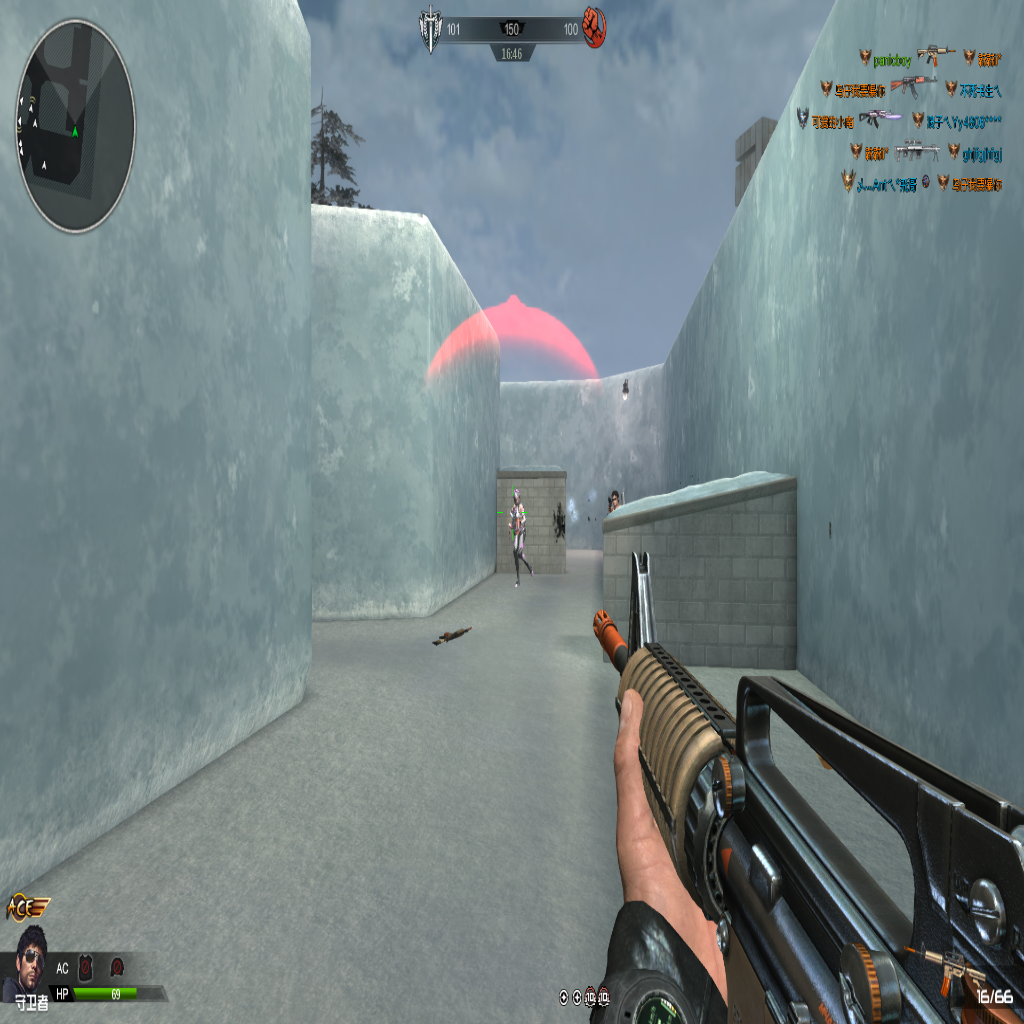tt: (509, 487, 531, 581), (609, 491, 619, 513)
